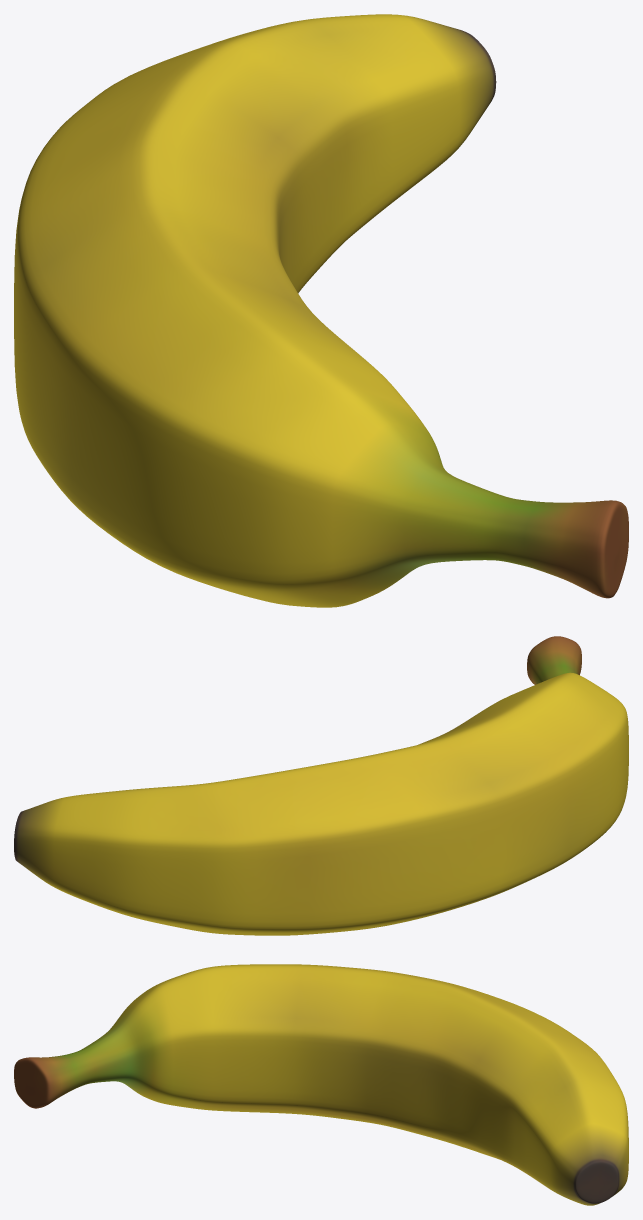
File: Banana.fbx
3 views of the same model, one above another, from view 1: azimuth 30°, elevation 25°; view 2: azimuth 150°, elevation 25°; view 3: azimuth 270°, elevation 25° (orthographic). The views are drawn at different scales.
Visible parts, largest first — view 1: Cylinder; view 2: Cylinder; view 3: Cylinder.
Boxes of the visible parts, x1,y1,x2,y2 form: Cylinder: (14, 14, 628, 607); Cylinder: (14, 636, 628, 935); Cylinder: (14, 964, 628, 1205).
Size of the model in its own units: 396 by 161 by 581.
